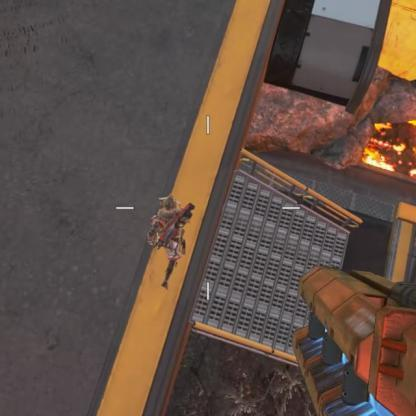avatar: (145, 191, 196, 291)
